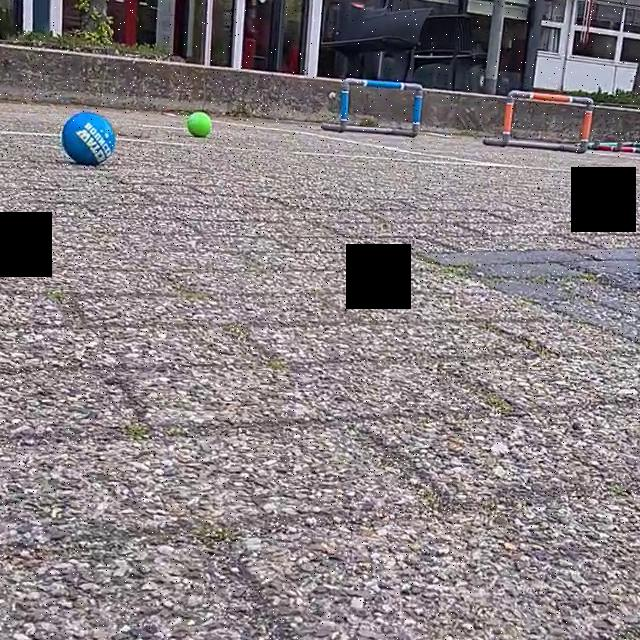ball: (184, 108, 214, 143)
